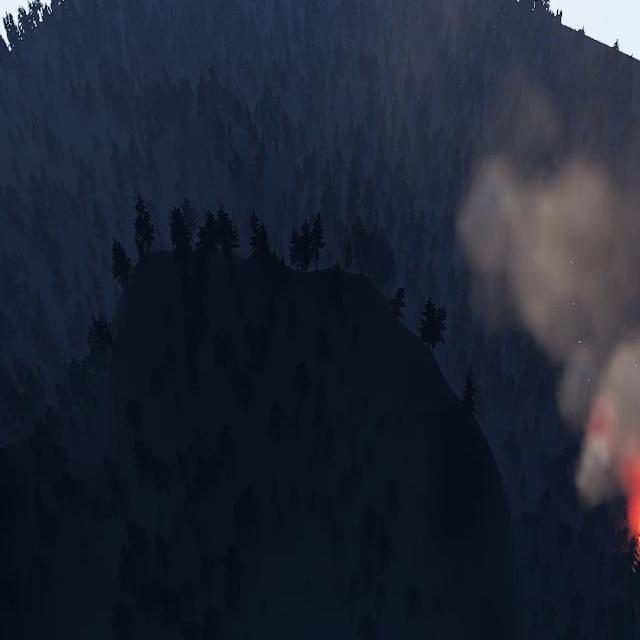fire: (632, 522, 640, 578)
smoke: (455, 16, 640, 558)
